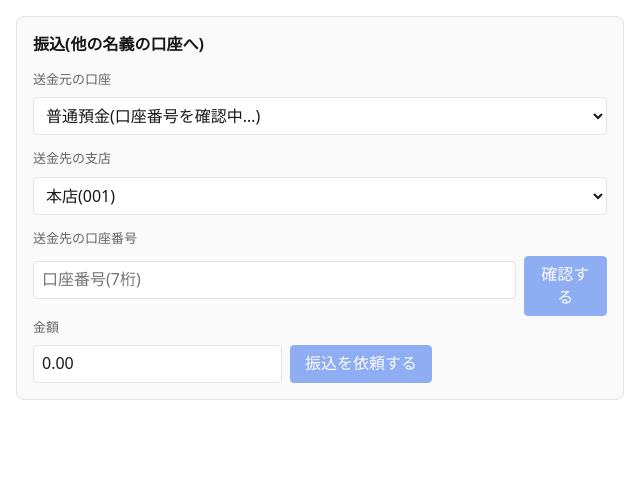
Test case: 振込(他の名義の口座へ)の宛先入力(docs/adr/0015) › 見つからない口座番号は、誤入力とも反映待ちとも決めつけない穏やかな文言を表示し送信を無効のままにする
The width and height of the screenshot is (641, 484).
Type "9999999" into the field labelled "送金先の口座番号" at (274, 280), box top-left (33, 261), bottom-right (516, 299)
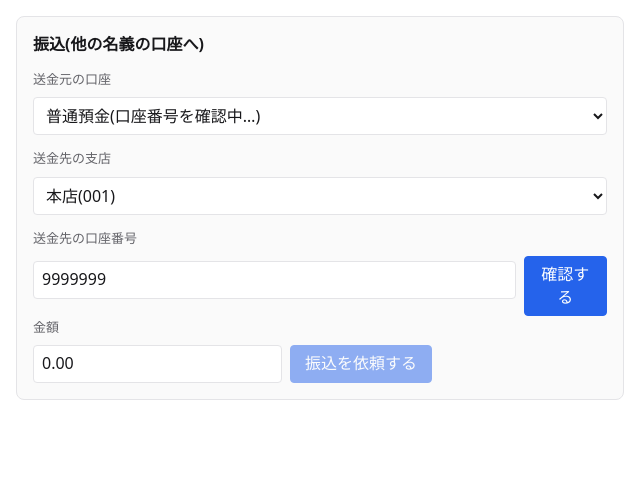
Click the button "確認する" at (565, 286), box top-left (524, 256), bottom-right (607, 316)
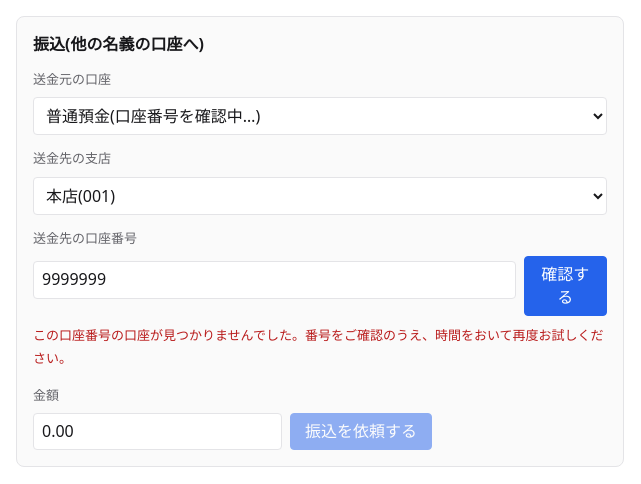
Expected: the button "振込を依頼する" is disabled, top-left (290, 413), bottom-right (432, 450)
Expected: the text "この口座番号の口座が見つかりませんでした。番号をご確認のうえ、時間をおいて再度お試しください。" is shown, top-left (33, 324), bottom-right (607, 371)
